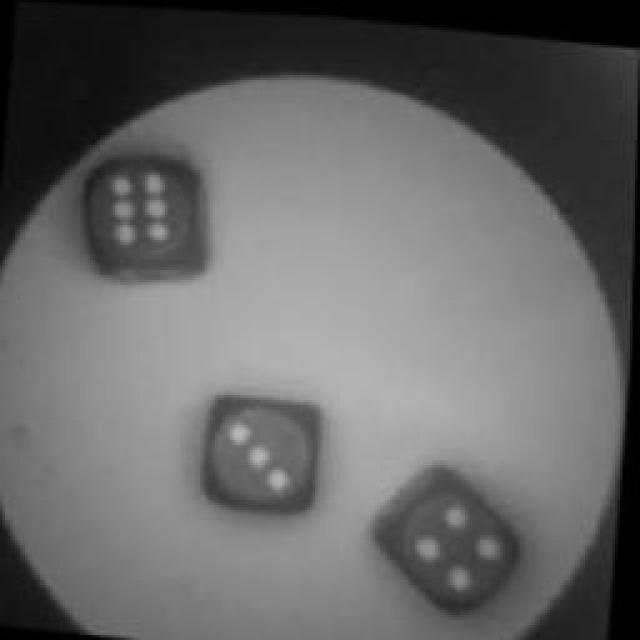dice_3: (199, 386, 331, 519)
dice_4: (379, 465, 526, 607)
dice_6: (79, 140, 216, 288)
